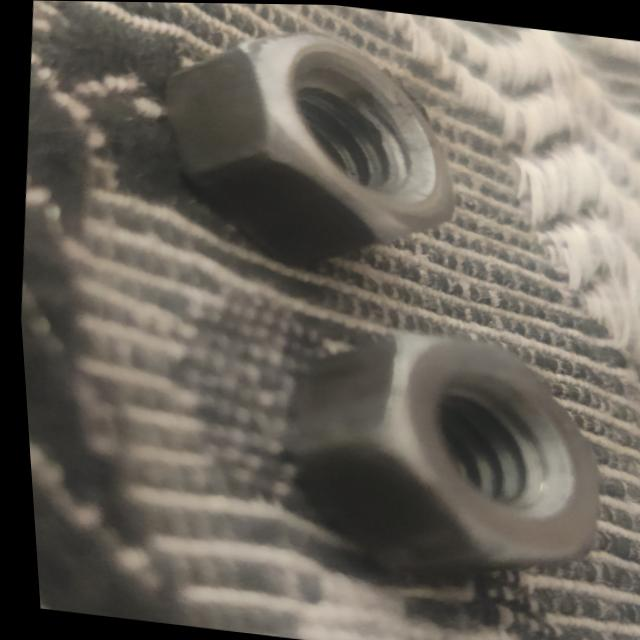disinfected nut: (280, 330, 591, 570), (163, 32, 448, 262), (366, 398, 376, 405)
